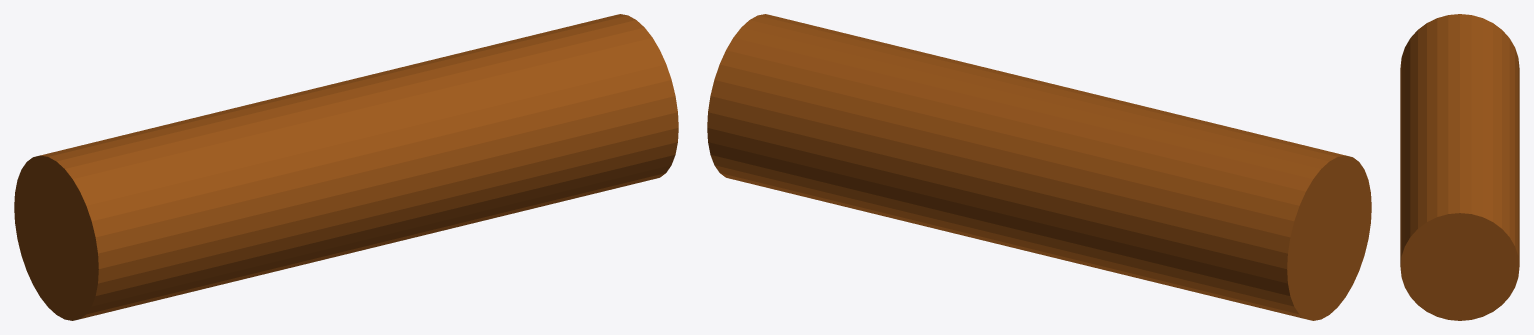
Rendered from ObjectsForThereWFR(PipeNormal).fbx.
3 renders of one model, left to right at view 1: azimuth 30°, elevation 25°; view 2: azimuth 150°, elevation 25°; view 3: azimuth 270°, elevation 25°, orthographic. The views are drawn at different scales.
Visible parts, largest first — view 1: FinalCopyNormal; view 2: FinalCopyNormal; view 3: FinalCopyNormal.
Part boxes in pixels (x1=…): FinalCopyNormal: x1=14, y1=14, x2=678, y2=320; FinalCopyNormal: x1=707, y1=14, x2=1371, y2=320; FinalCopyNormal: x1=1400, y1=14, x2=1519, y2=320.
Size of the model in its own units: 791 by 200 by 200.
